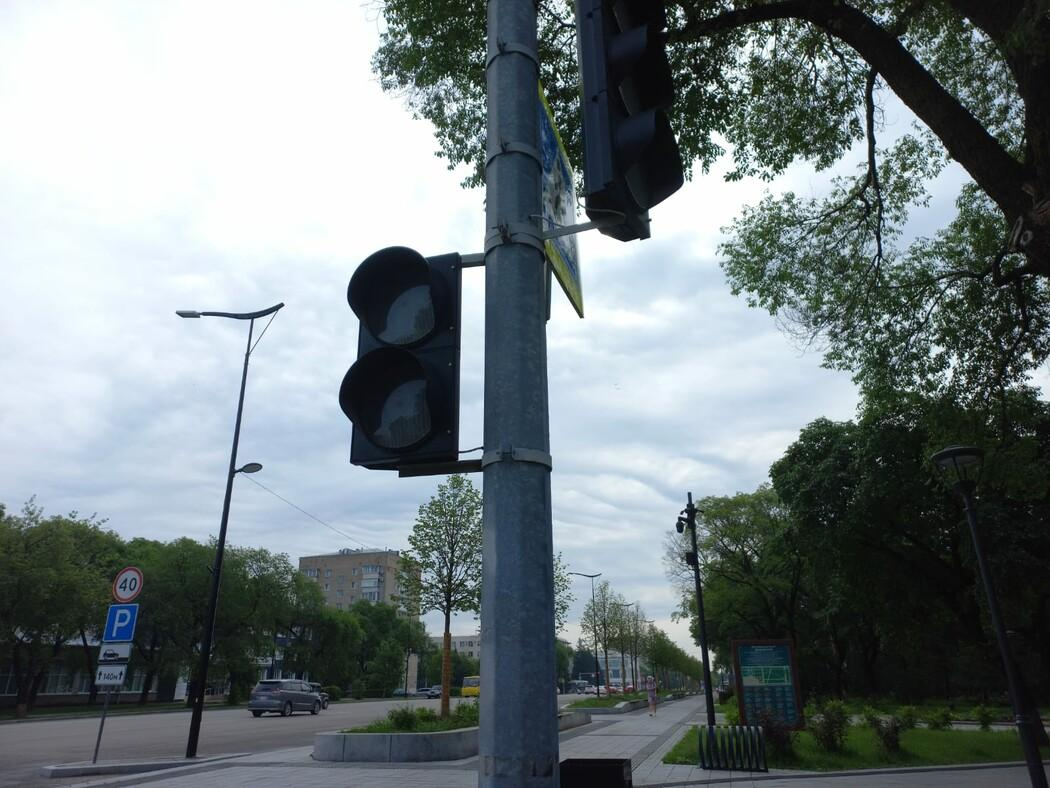obstructed_road_sign: (536, 82, 583, 318)
off traffic light: (338, 246, 480, 476), (577, 0, 683, 242)
road_sign: (103, 603, 139, 642), (113, 566, 144, 603), (94, 664, 126, 685), (99, 642, 130, 660)
